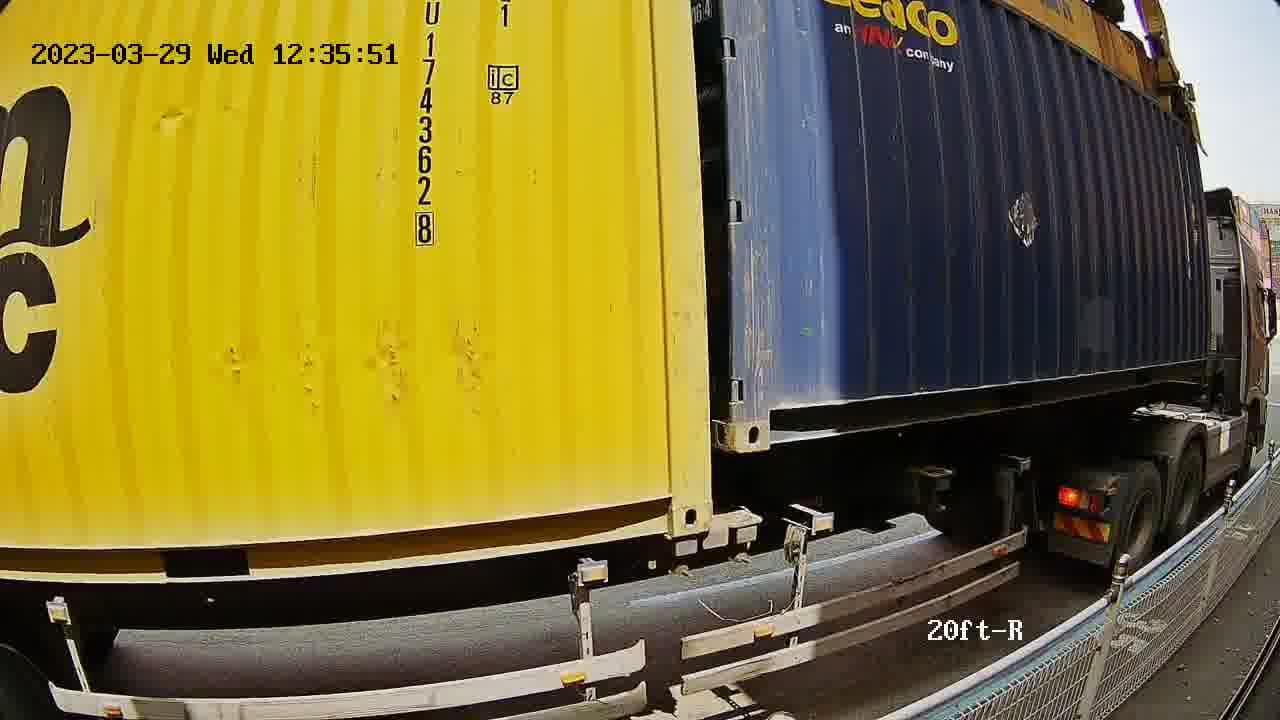Cone: (723, 508, 757, 568), (664, 534, 702, 583)
Hole_L: (732, 378, 799, 453)
Hole_R: (629, 460, 714, 538)
Tire: (1122, 464, 1162, 578), (1171, 446, 1205, 535)
